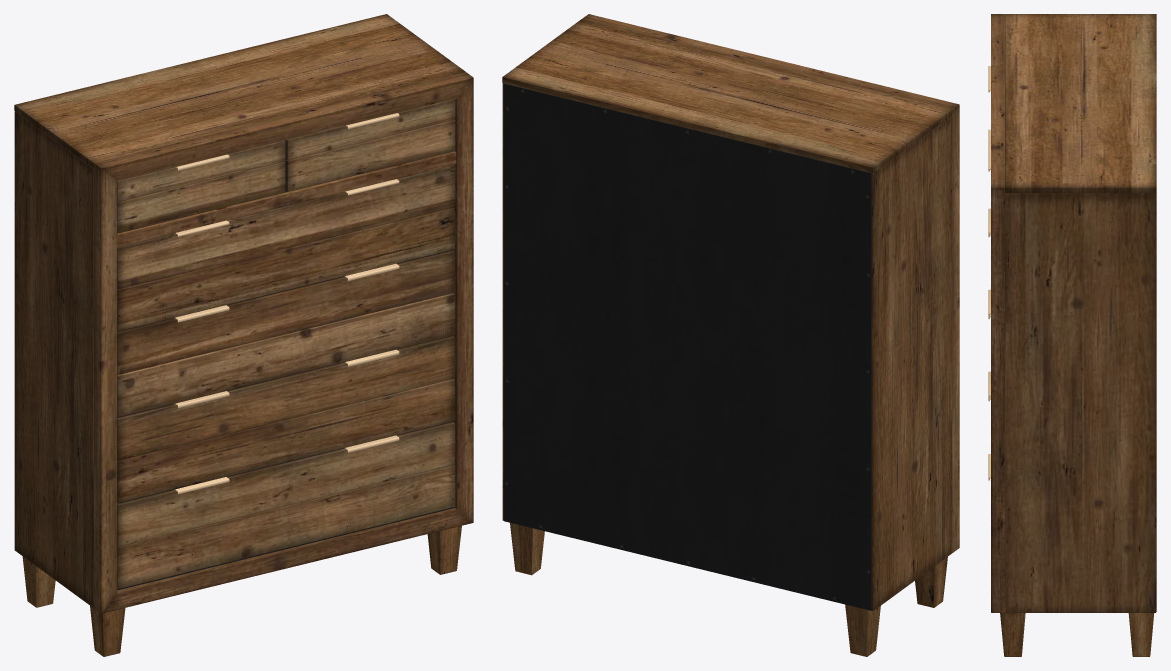
3 views of the same model, side by side, from view 1: azimuth 30°, elevation 25°; view 2: azimuth 150°, elevation 25°; view 3: azimuth 270°, elevation 25° (orthographic). The views are drawn at different scales.
Parts seen in each view (by area): view 1: RootNode; view 2: RootNode; view 3: RootNode.
Boxes of the visible parts, x1,y1,x2,y2 form: RootNode: (14, 14, 473, 656); RootNode: (502, 14, 959, 656); RootNode: (988, 14, 1156, 656).
Size of the model in its own units: 1.07 by 1.36 by 0.4378.
Materials: 1 (1 with a texture image).
